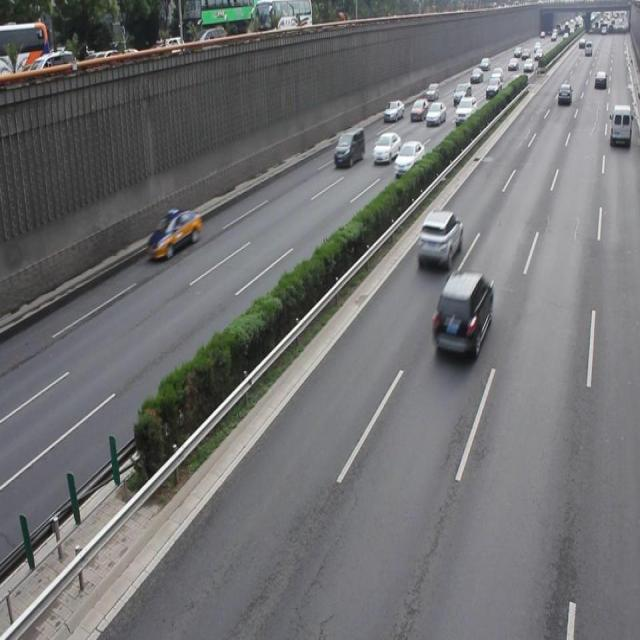car: (430, 269, 493, 360), (147, 206, 202, 258), (416, 209, 462, 269), (394, 139, 424, 175), (372, 130, 399, 165)
truck: (333, 127, 364, 168)
